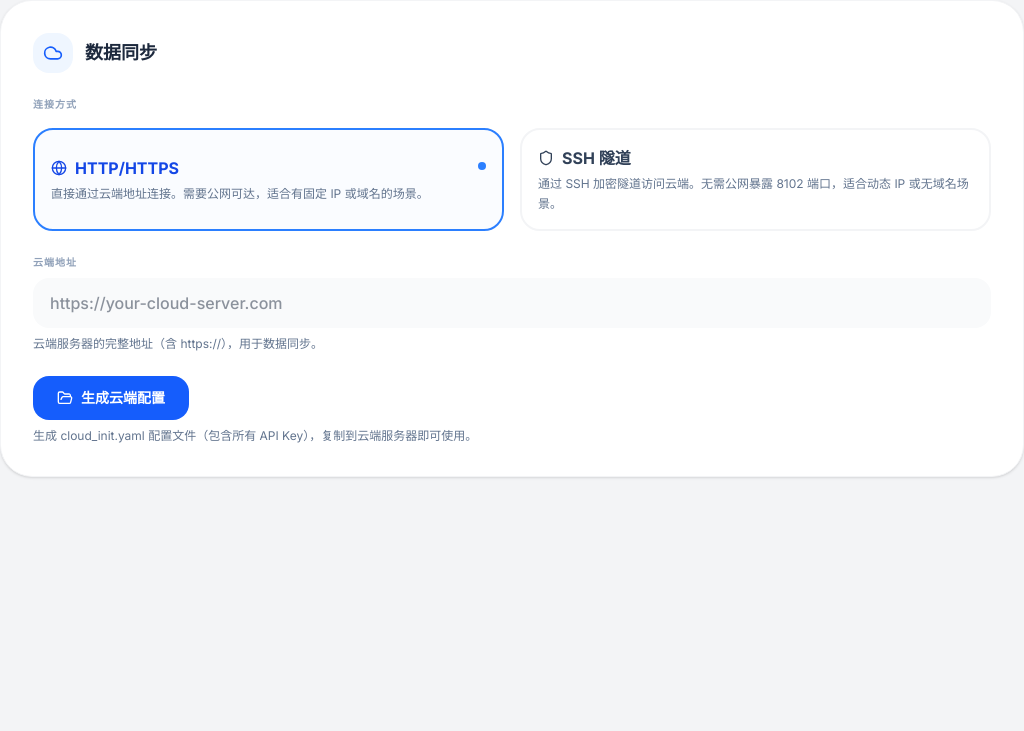
SyncConfigSection › Seam 12: SSH 配置初始加载 + 回填 › should load SSH config when switching from HTTP to SSH mode
切换到 SSH 模式应触发 getSshConfig
Click the button "SSH 隧道 通过 SSH 加密隧道访问云端。无需公网暴露 8102 端口，适合动态 IP 或无域名场景。". click: (756, 180)
box: [520,128,991,231]
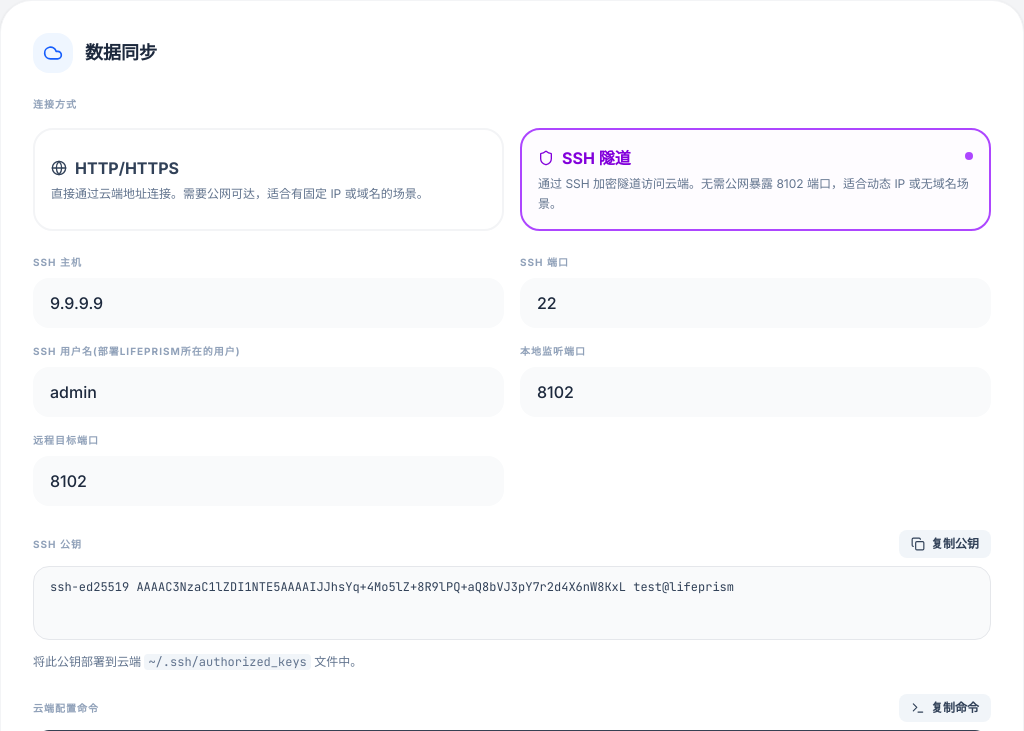
Expected: the field named "SSH 主机" holds "9.9.9.9", [33,278,504,328]
Expected: the field named "SSH 用户名" holds "admin", [33,367,504,417]
